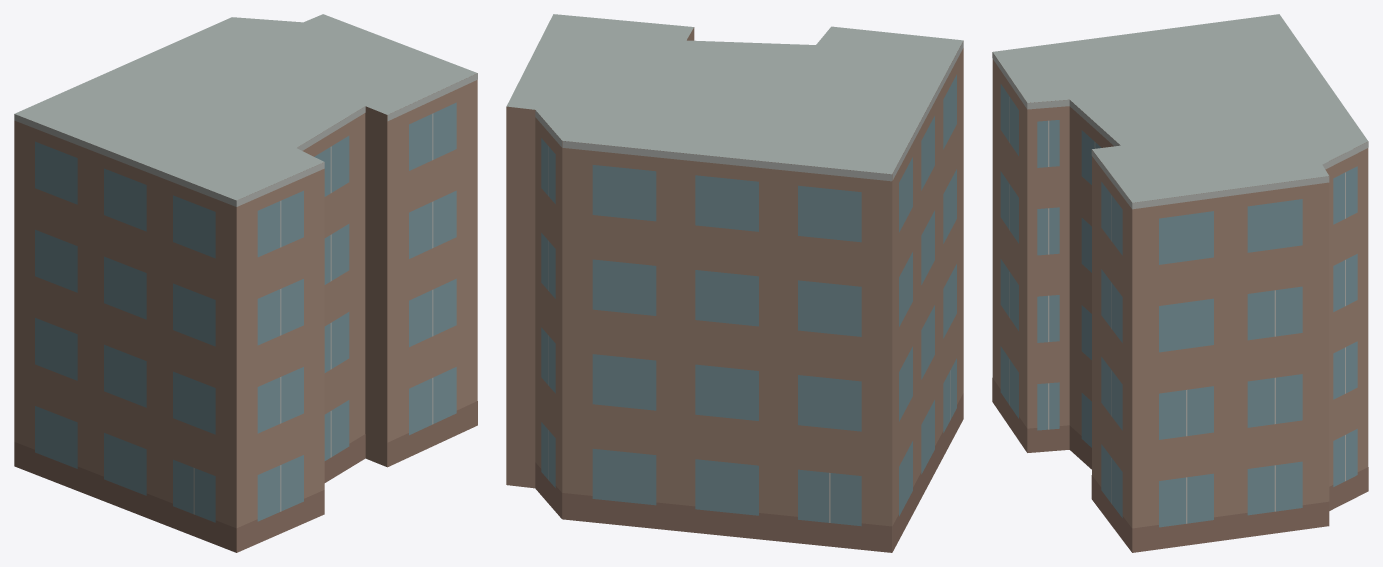
The model's file is survey-upis-32628981.glb.
3 renders of one model, left to right at view 1: azimuth 30°, elevation 25°; view 2: azimuth 150°, elevation 25°; view 3: azimuth 270°, elevation 25°, orthographic. The views are drawn at different scales.
Visible parts, largest first — view 1: survey-upis-32628981.tmp; view 2: survey-upis-32628981.tmp; view 3: survey-upis-32628981.tmp.
Boxes of the visible parts, box(x1,y1,x2,y2) form: survey-upis-32628981.tmp: box(14, 14, 477, 552); survey-upis-32628981.tmp: box(506, 14, 963, 552); survey-upis-32628981.tmp: box(992, 14, 1368, 552).
Bounding box in the file's own units: 15.16 × 13.1 × 12.76.
